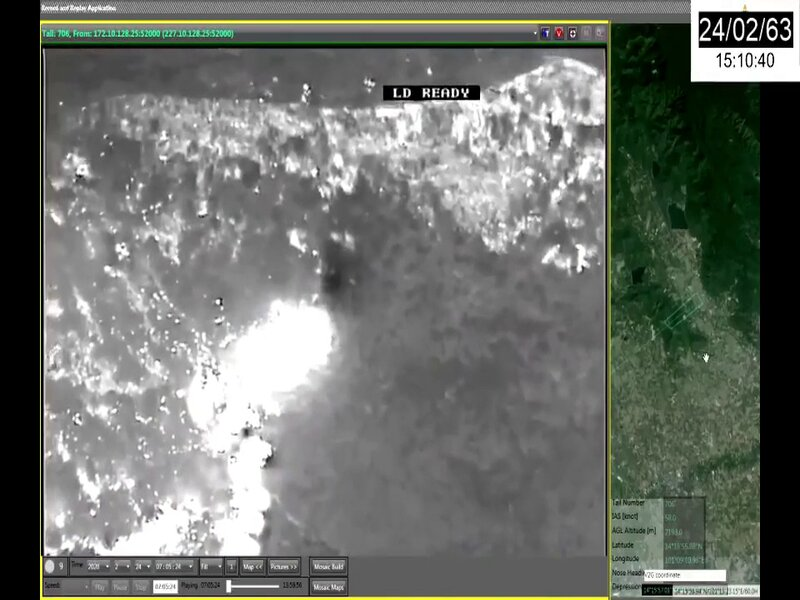Fire: (83, 298, 337, 555)
